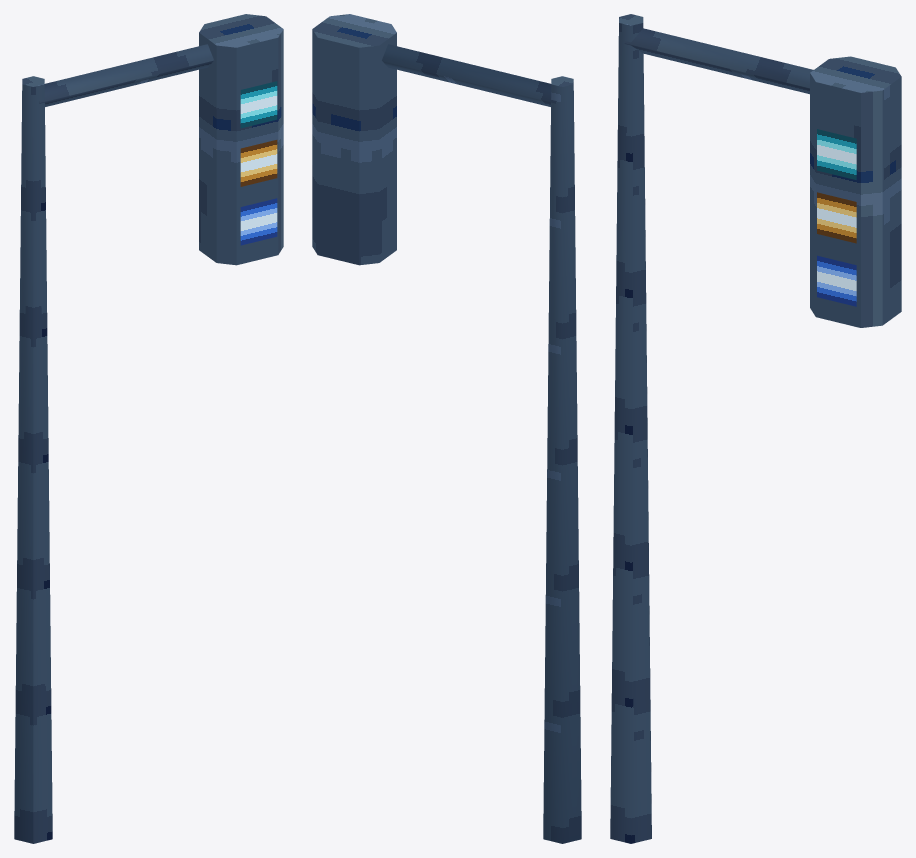
The model's file is cydress.traffic_signal.glb.
The picture shows the model from 3 angles, left to right: view 1: azimuth 30°, elevation 25°; view 2: azimuth 150°, elevation 25°; view 3: azimuth 330°, elevation 25°; orthographic projection. The views are drawn at different scales.
Parts seen in each view (by area): view 1: kit_body, kit_card_details; view 2: kit_body; view 3: kit_body, kit_card_details.
Part boxes in pixels (x1,y1,x2,y2): kit_body: [14, 14, 283, 843]; kit_card_details: [240, 81, 277, 245]; kit_body: [312, 14, 581, 843]; kit_body: [610, 14, 901, 843]; kit_card_details: [817, 129, 856, 306].
Size of the model in its own units: 1.63 by 4.5 by 0.365.
Materials: 3 (3 with a texture image).
